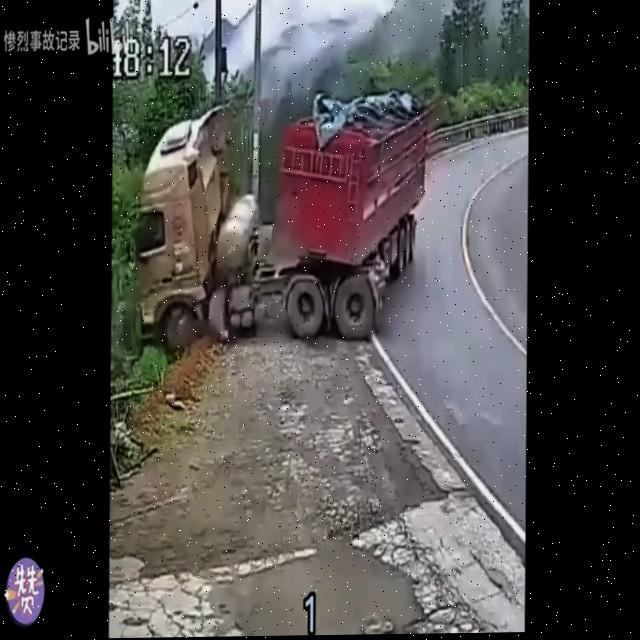single accident: (115, 63, 398, 363)
